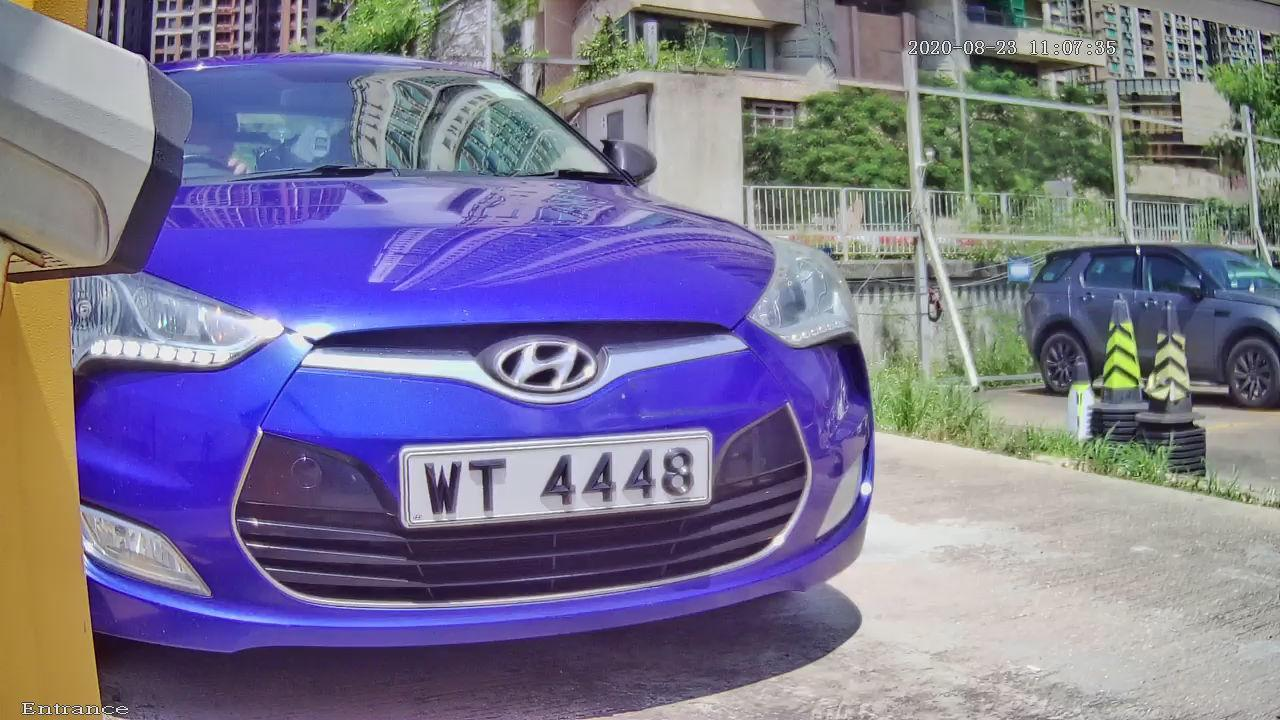License Plate: (371, 396, 729, 550)
